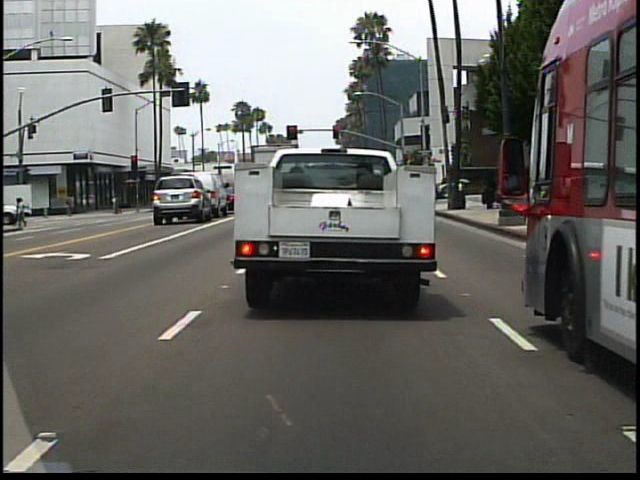person: (65, 190, 79, 218)
